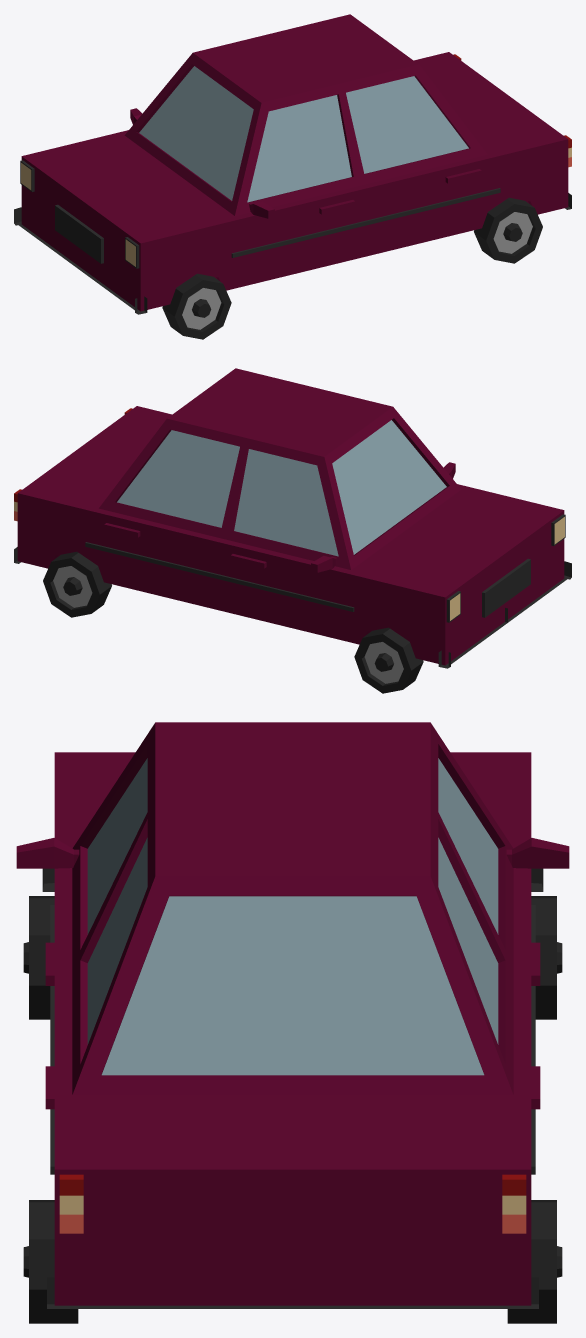
File: ArabaModeli.fbx
The picture shows the model from 3 angles, top to bottom: view 1: azimuth 30°, elevation 25°; view 2: azimuth 150°, elevation 25°; view 3: azimuth 270°, elevation 25°; orthographic projection. The views are drawn at different scales.
Visible parts, largest first — view 1: araba, teker2, teker1; view 2: araba, teker2, teker1; view 3: araba, teker1, teker2.
Part boxes in pixels (box(x1,y1,x2,y2)): araba: box(14, 14, 571, 314); teker2: box(162, 273, 231, 339); teker1: box(474, 197, 542, 263); araba: box(14, 368, 571, 668); teker2: box(354, 627, 423, 693); teker1: box(43, 551, 111, 617); araba: box(16, 722, 569, 1308); teker1: box(23, 1200, 562, 1323); teker2: box(23, 896, 562, 1019).
Bounding box in the file's own units: 327 × 137 × 179.
